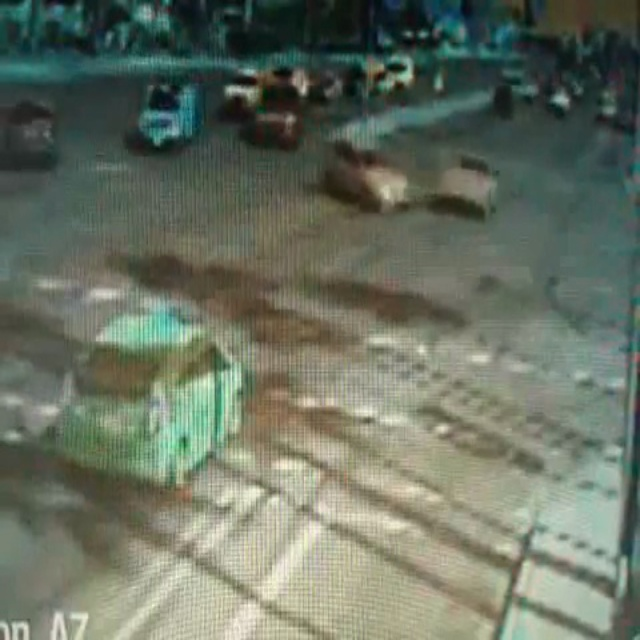acc: (309, 128, 506, 227)
